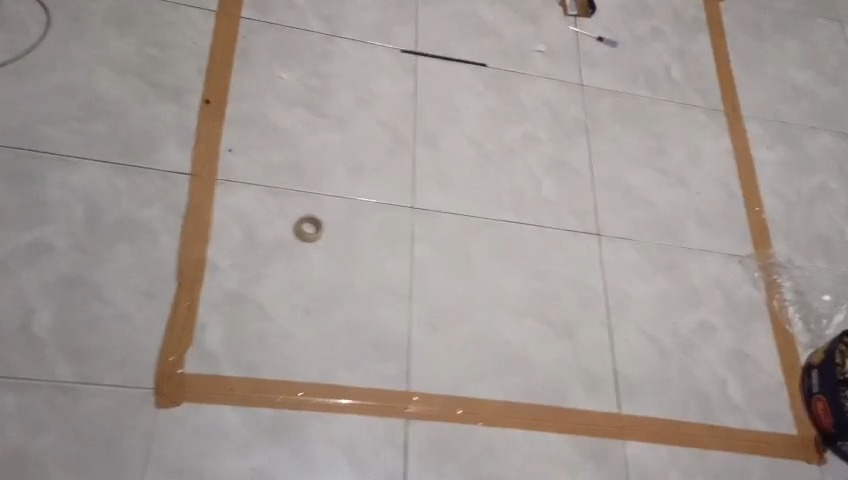floor marking: (154, 0, 825, 463)
